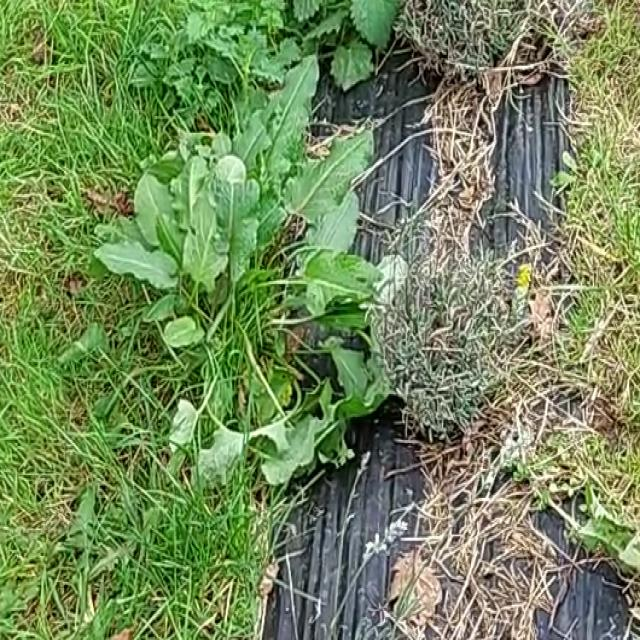organic waste: (77, 46, 407, 455)
